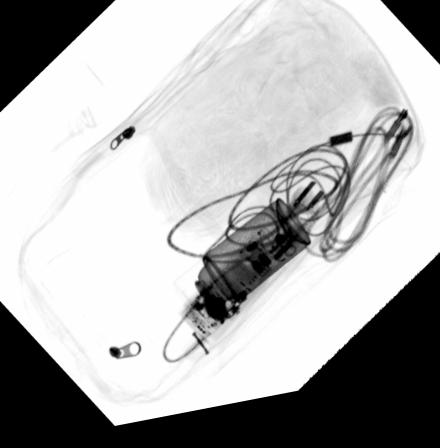Sprayer: (172, 206, 314, 335)
